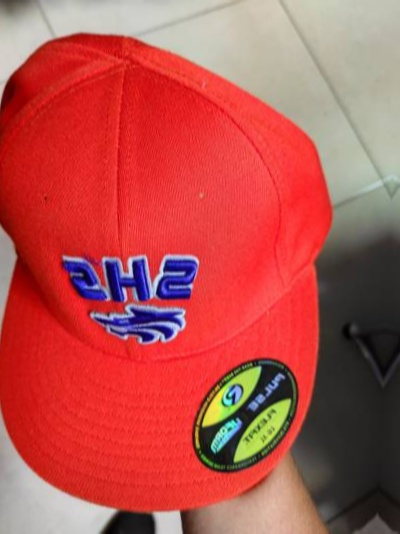Hat: (0, 20, 378, 521), (399, 39, 400, 534)
